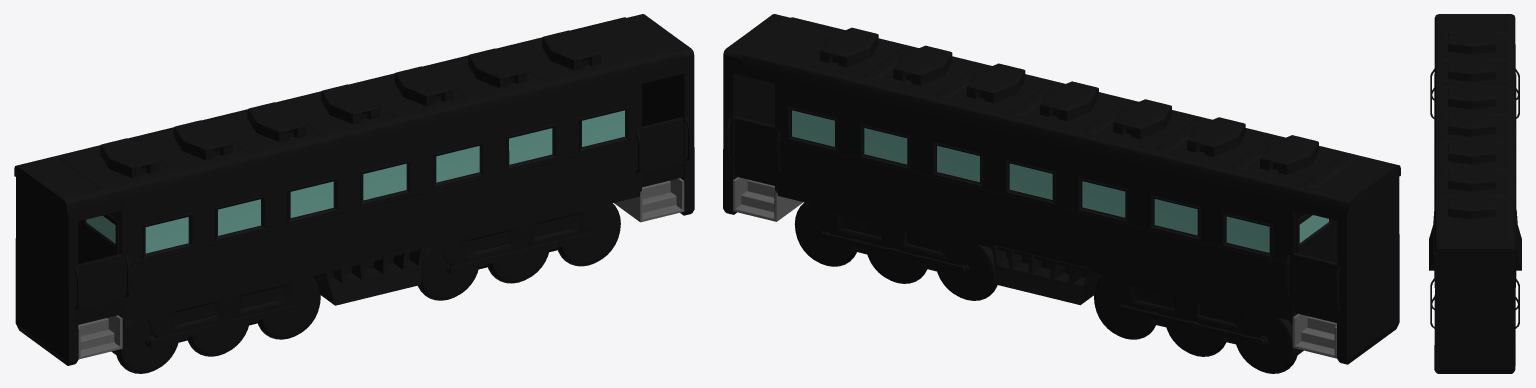
File: Tren.fbx
3 views of the same model, side by side, from view 1: azimuth 30°, elevation 25°; view 2: azimuth 150°, elevation 25°; view 3: azimuth 270°, elevation 25° (orthographic). The views are drawn at different scales.
Parts seen in each view (by area): view 1: pCube56, LLanta11, pCube57, Base8, Base4; view 2: pCube56, LLanta11, Base8, pCube57, Base4; view 3: pCube56, pCube57, Base8.
Boxes of the visible parts, box(x1,y1,x2,y2) form: pCube56: box(14, 14, 694, 365); LLanta11: box(115, 203, 620, 373); pCube57: box(100, 30, 600, 178); Base8: box(146, 205, 605, 337); Base4: box(111, 193, 639, 354); pCube56: box(723, 14, 1400, 364); LLanta11: box(794, 202, 1298, 373); Base8: box(810, 201, 1268, 337); pCube57: box(820, 27, 1318, 174); Base4: box(777, 193, 1303, 354); pCube56: box(1430, 14, 1519, 373); pCube57: box(1448, 30, 1496, 219); Base8: box(1429, 209, 1521, 270).
Bounding box in the file's own units: 3061 × 978 × 513.
